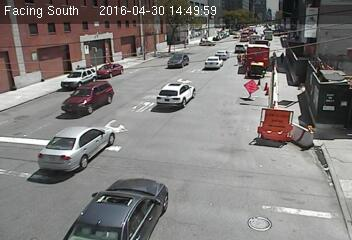neg: (126, 80, 146, 107), (192, 73, 203, 88)
pos: (275, 49, 288, 66), (232, 50, 244, 66)
